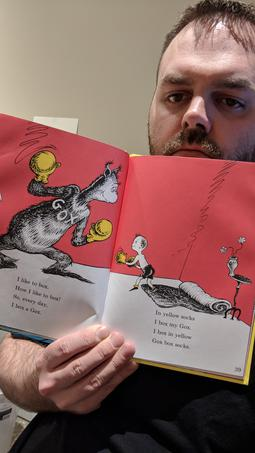text block: (7, 268, 66, 317), (149, 306, 203, 352)
